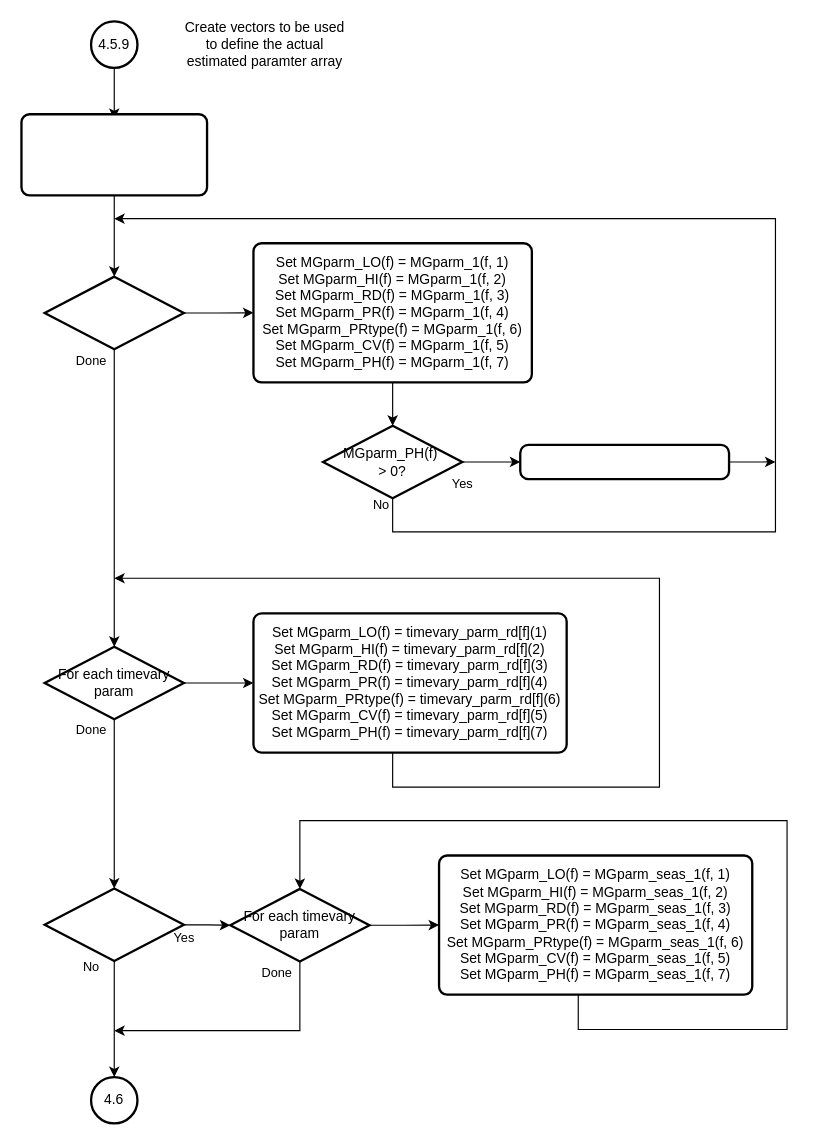
Image size: 817x1145. Some labels were removed from this diagram. Each missing label, with the box of its shape:
For each MGparm: (43, 275, 184, 350)
N_MGparm_seas ? 0?: (43, 887, 184, 962)
Set MG_active(mgp_type(f)) = 1: (519, 443, 730, 480)
Set N_MGparm2 = N_MBparm + timevary_parm_cnt_MG + N_MGparm_seas: (20, 113, 208, 196)
